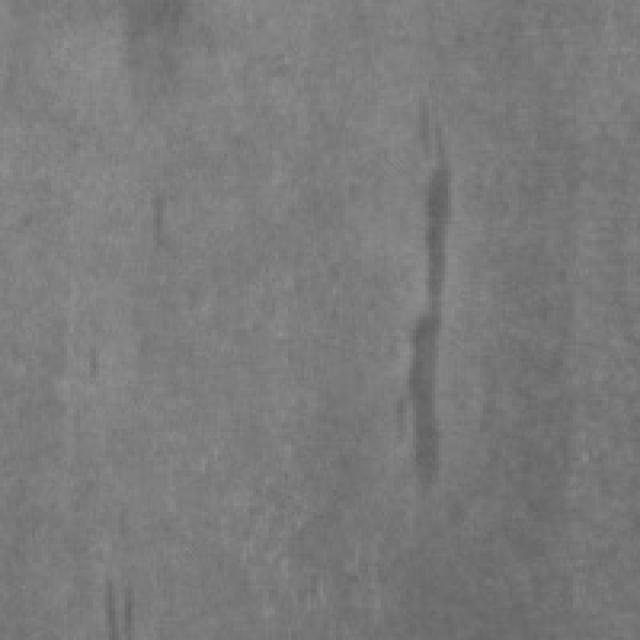inclusion: (387, 93, 474, 528), (83, 563, 154, 634)
